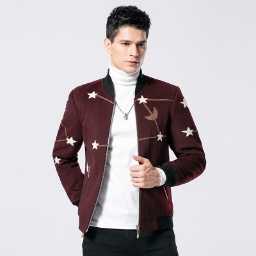face: (104, 6, 151, 73)
